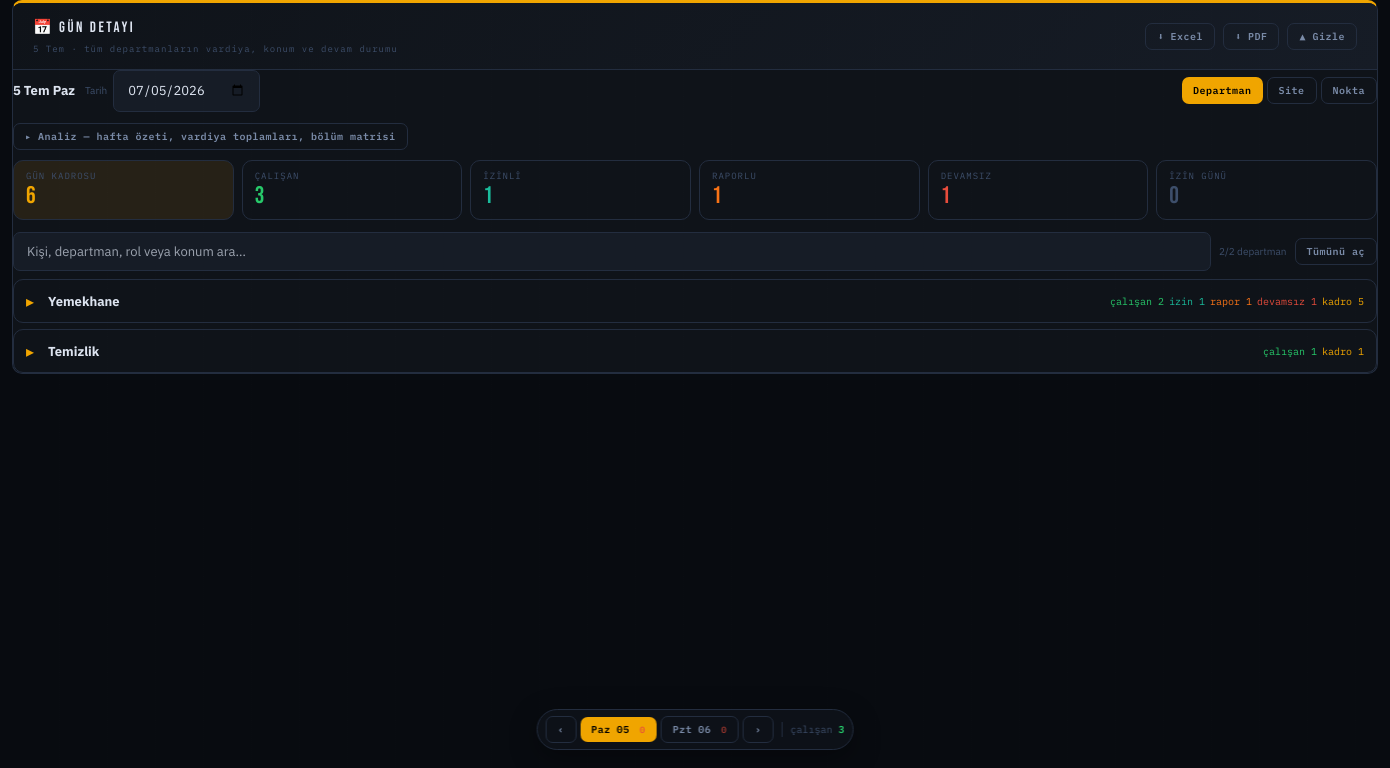
Test: DayDetailBoard › kişi/rol/konum araması eşleşen bölümü bulur ve detayını açar
expect the button with aria-label "Yemekhane detayları" is shown: met, box [14, 280, 1376, 322]
Type "Temizlikçi" into the search field named "Gün detayında ara" at x=612, y=252, box [13, 232, 1211, 271]
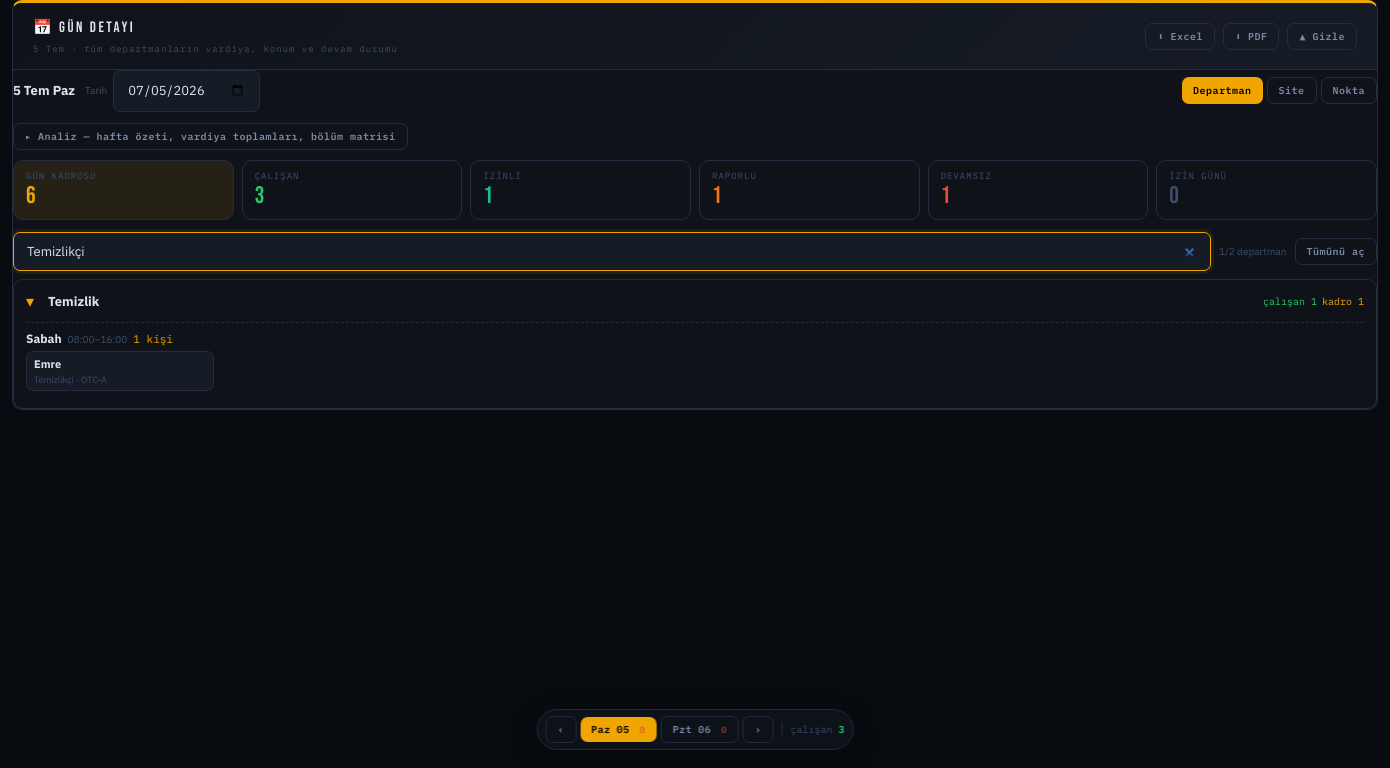
expect the button with aria-label "Temizlik detayları" is expanded: met, box [14, 280, 1376, 322]
expect the button "Emre Temizlikçi · OTC-A" is shown: met, box [26, 351, 214, 391]
